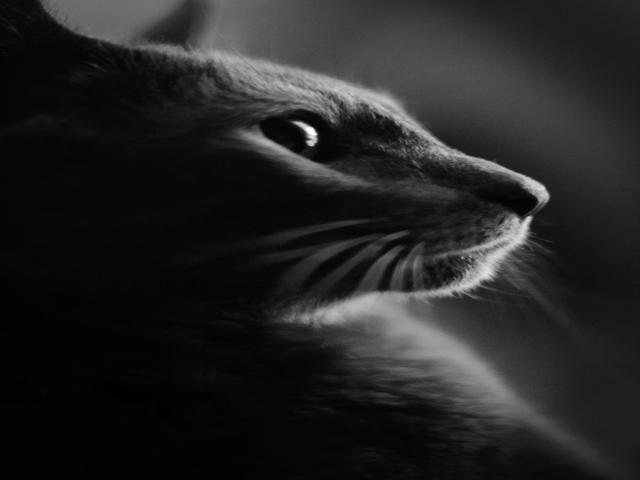Cat: (2, 0, 620, 480)
